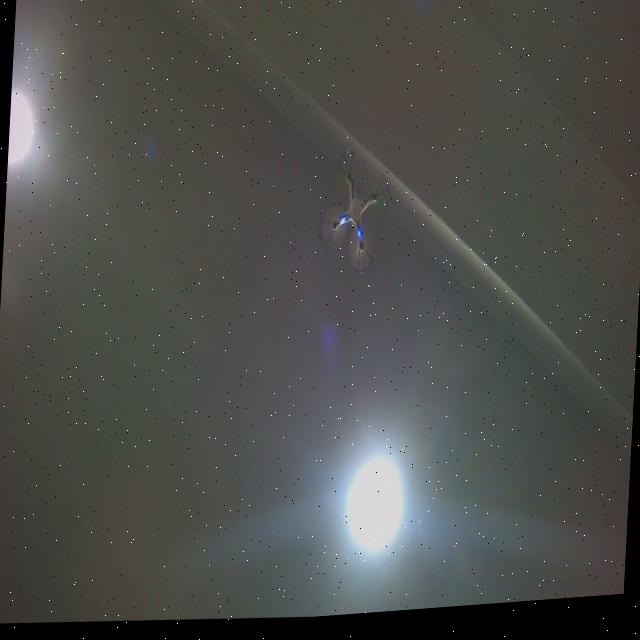drone: (312, 145, 397, 287)
